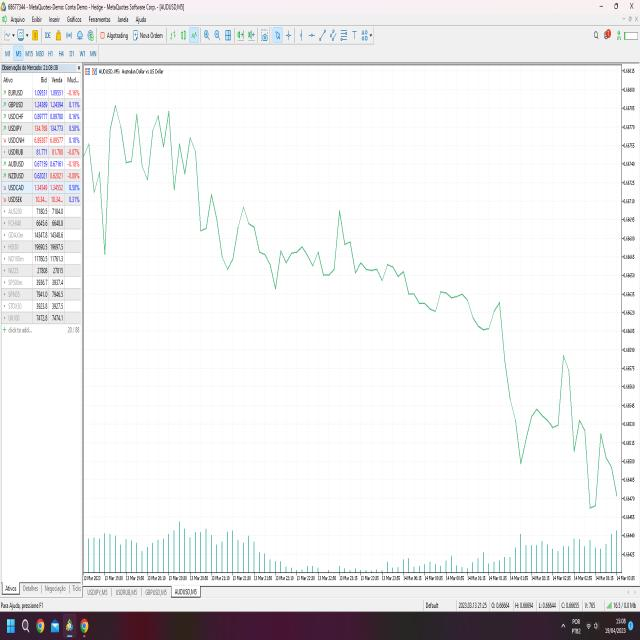topo_duplo: (146, 107, 178, 199)
